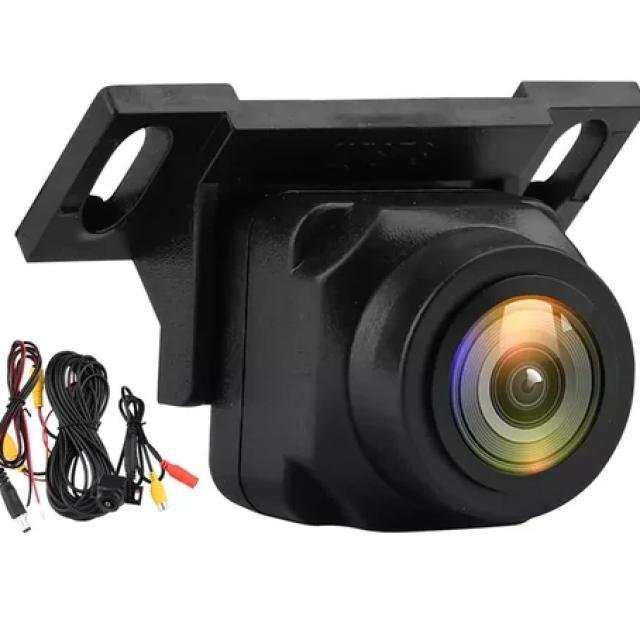hidden camera: (454, 295, 606, 478)
